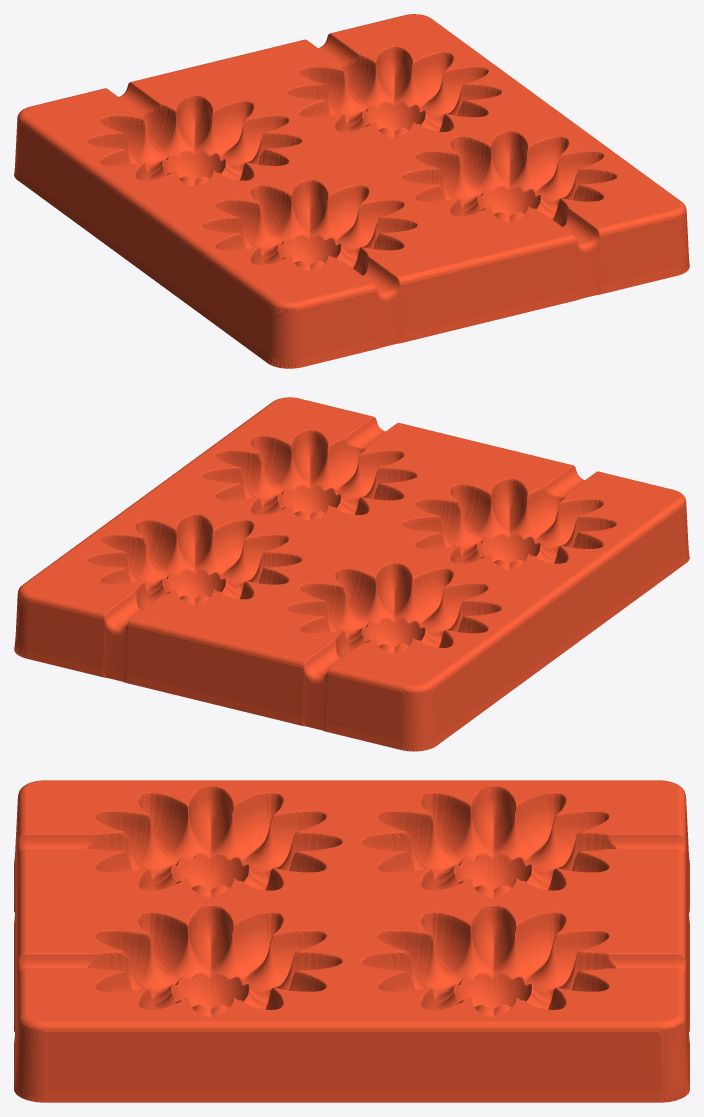
Rendered from mold.glb.
3 views of the same model, one above another, from view 1: azimuth 30°, elevation 25°; view 2: azimuth 150°, elevation 25°; view 3: azimuth 270°, elevation 25° (orthographic). The views are drawn at different scales.
Parts seen in each view (by area): view 1: geometry_0; view 2: geometry_0; view 3: geometry_0.
Boxes of the visible parts, left/top/right/bottom form: geometry_0: left=14, top=14, right=689, bottom=368; geometry_0: left=14, top=397, right=689, bottom=751; geometry_0: left=14, top=780, right=689, bottom=1102.
Size of the model in its own units: 0.1726 by 0.0245 by 0.1968.
